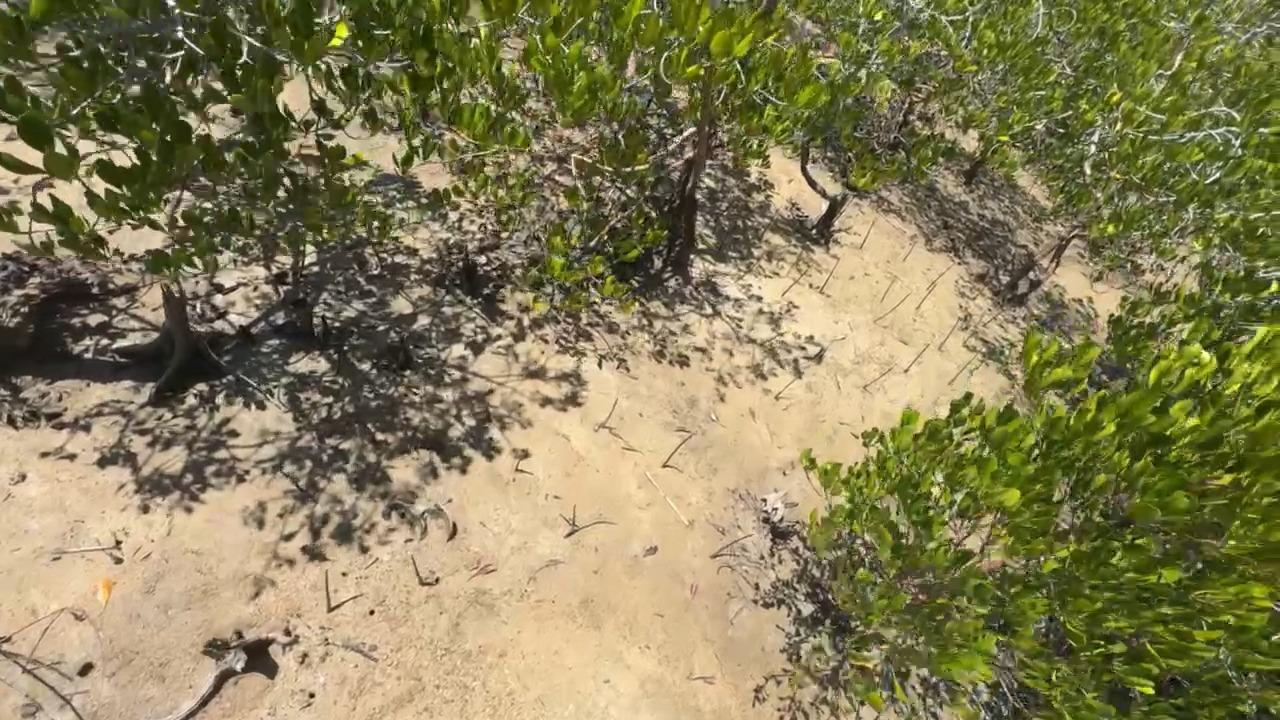Tree: (708, 531, 756, 570), (948, 344, 985, 385), (661, 431, 698, 467), (874, 289, 911, 322), (596, 397, 624, 427), (861, 365, 895, 389), (925, 262, 954, 290), (818, 258, 842, 291), (904, 343, 931, 372), (781, 268, 808, 297), (938, 316, 961, 349), (915, 282, 940, 310), (760, 206, 780, 241), (859, 215, 878, 250), (773, 375, 800, 399), (880, 274, 898, 303), (410, 552, 424, 587), (983, 308, 1002, 329), (324, 569, 332, 613), (902, 241, 916, 262), (572, 504, 577, 528)
